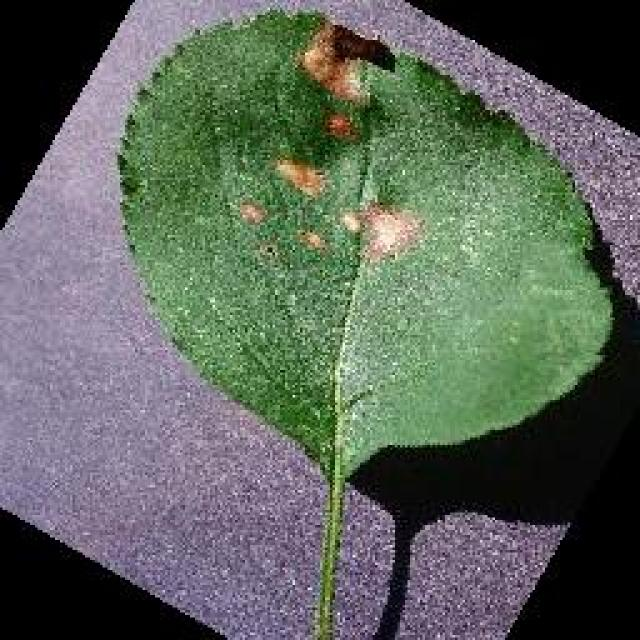Black_rot: (112, 5, 618, 637)
